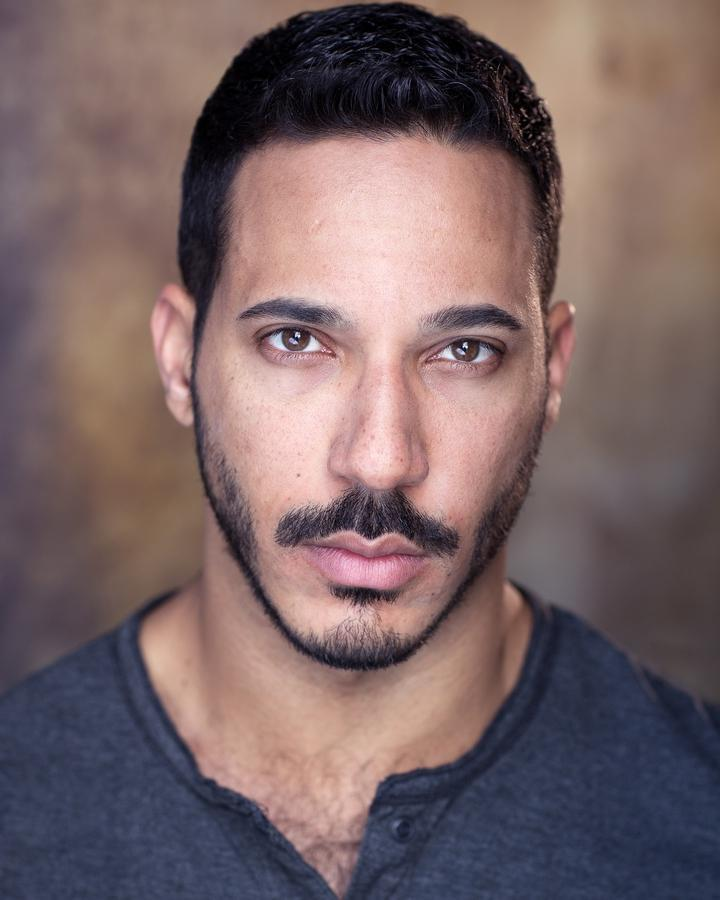Sober: (203, 154, 540, 603)
